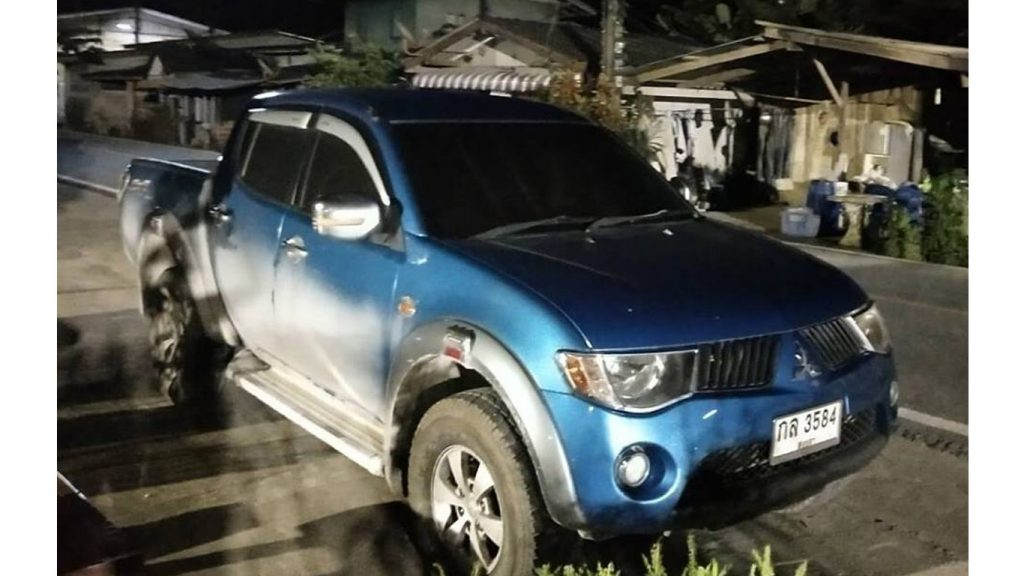pickup: (112, 78, 907, 569)
